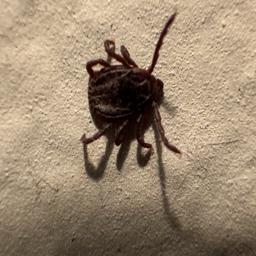Rhipicephalus sanguineus: (81, 11, 183, 157)
